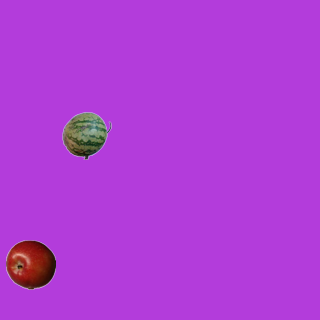Apple Braeburn: (5, 239, 55, 289)
Watermelon: (61, 110, 111, 160)
